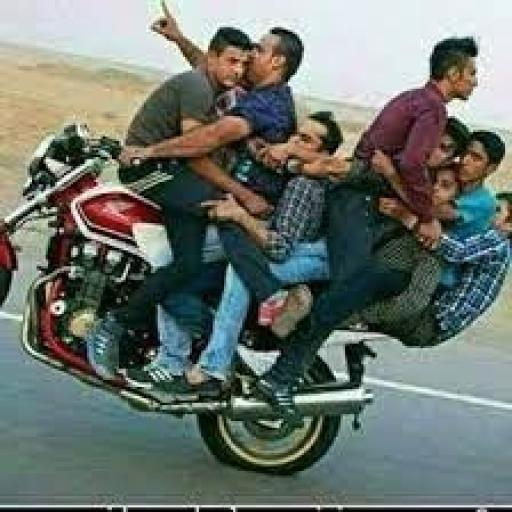no helmet: (242, 19, 326, 149)
triple riding: (4, 23, 512, 512)
